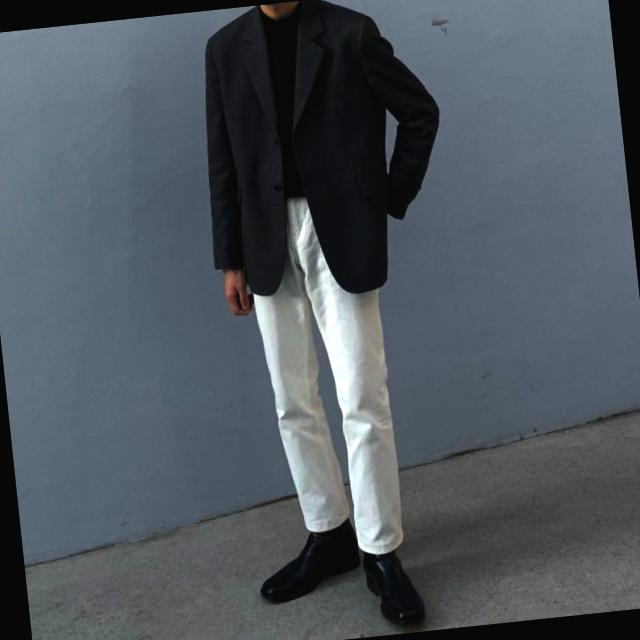blazer: (188, 0, 459, 305)
cottonpants: (236, 181, 410, 564)
